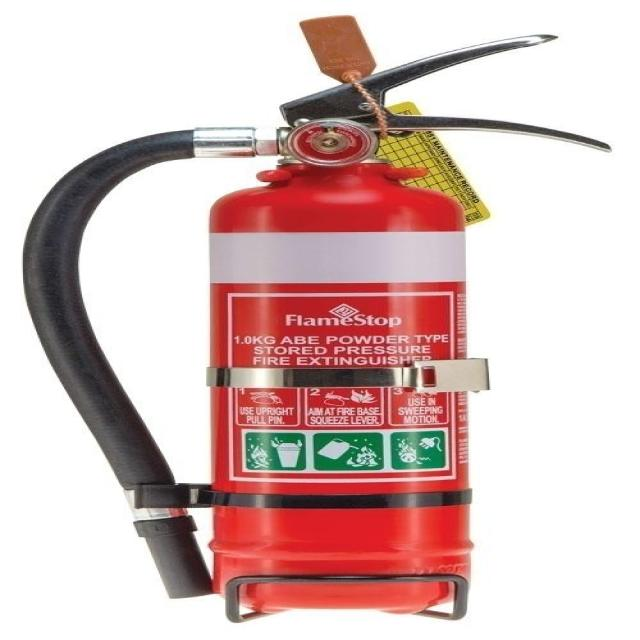fire_extinguisher: (12, 12, 613, 626)
